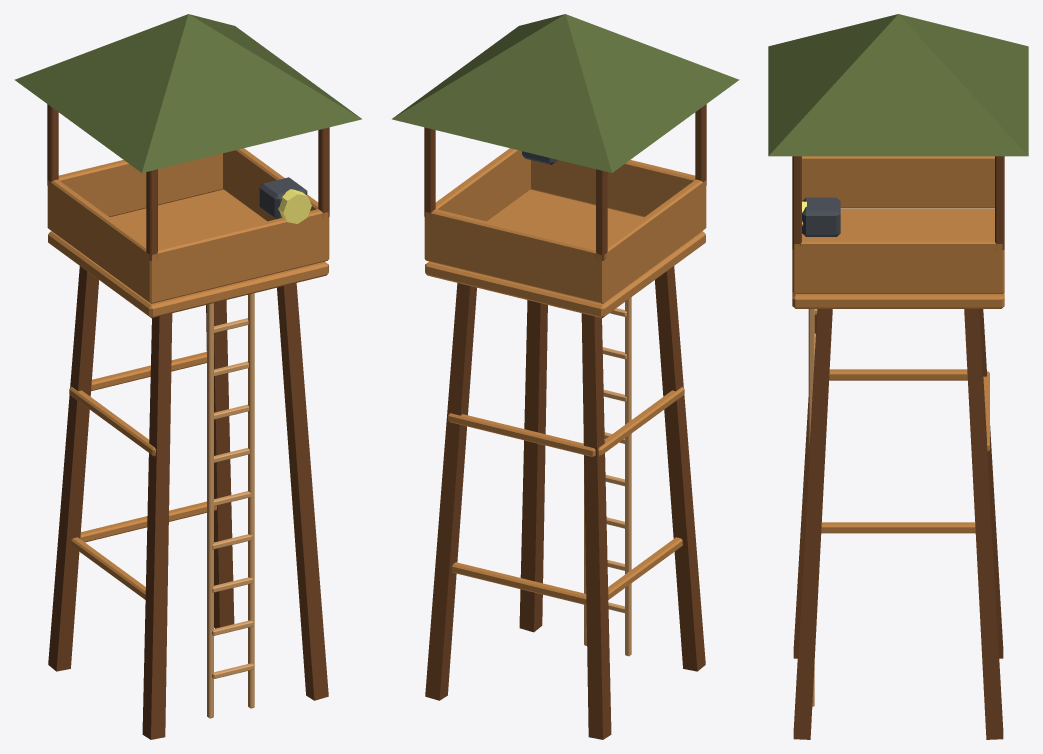
The model's file is WatchTower.fbx.
3 renders of one model, left to right at view 1: azimuth 30°, elevation 25°; view 2: azimuth 150°, elevation 25°; view 3: azimuth 270°, elevation 25°, orthographic. The views are drawn at different scales.
Parts seen in each view (by area): view 1: WatchTower; view 2: WatchTower; view 3: WatchTower.
Boxes of the visible parts, <box> form: WatchTower: <box>14,14,361,739</box>; WatchTower: <box>392,14,739,739</box>; WatchTower: <box>768,14,1028,739</box>.
Bounding box in the file's own units: 5.4 × 15.62 × 5.4.
1 material, 1 textured.
